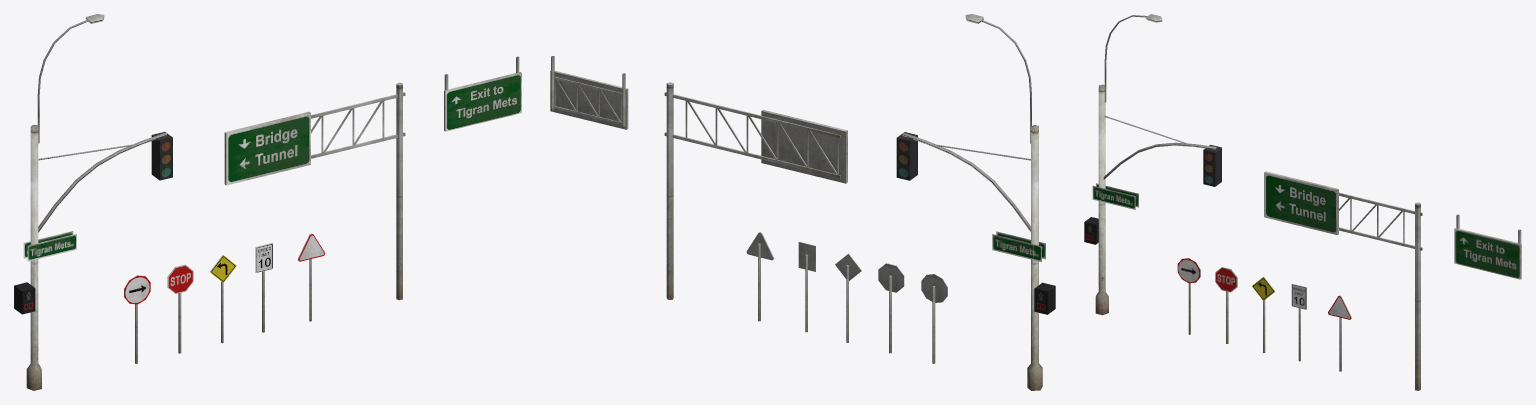
Rendered from signs.fbx.
3 renders of one model, left to right at view 1: azimuth 30°, elevation 25°; view 2: azimuth 150°, elevation 25°; view 3: azimuth 330°, elevation 25°, orthographic. The views are drawn at different scales.
Parts seen in each view (by area): view 1: Cube.002, Cylinder, Cube.000, Cylinder.001, Circle.002, Plane.001, Cylinder.000, Cylinder.002; view 2: Cube.002, Cylinder, Cube.000, Circle.002, Cylinder.001, Plane.001, Cylinder.000, Cylinder.002; view 3: Cube.002, Cylinder, Cube.000, Circle.002, Cylinder.001, Plane.001, Cylinder.000, Cylinder.002.
Part boxes in pixels (box(x1,y1,x2,y2)): Cube.002: box(224, 82, 405, 300); Cylinder: box(14, 14, 172, 390); Cube.000: box(444, 56, 521, 131); Cylinder.001: box(167, 264, 193, 353); Circle.002: box(124, 275, 150, 363); Plane.001: box(255, 243, 272, 332); Cylinder.000: box(298, 233, 325, 321); Cylinder.002: box(210, 255, 236, 343); Cube.002: box(664, 82, 847, 299); Cylinder: box(896, 14, 1055, 390); Cube.000: box(550, 56, 628, 129); Circle.002: box(921, 274, 947, 363); Cylinder.001: box(878, 263, 904, 353); Plane.001: box(798, 242, 815, 332); Cylinder.000: box(746, 232, 773, 321); Cylinder.002: box(835, 253, 861, 342); Cube.002: box(1264, 171, 1422, 390); Cylinder: box(1084, 14, 1221, 315); Cube.000: box(1454, 214, 1521, 279); Circle.002: box(1177, 258, 1200, 334); Cylinder.001: box(1215, 267, 1237, 343); Plane.001: box(1291, 284, 1306, 361); Cylinder.000: box(1328, 295, 1351, 371); Cylinder.002: box(1252, 276, 1274, 352).
Bounding box in the file's own units: 2927 × 1986 × 82.21.
